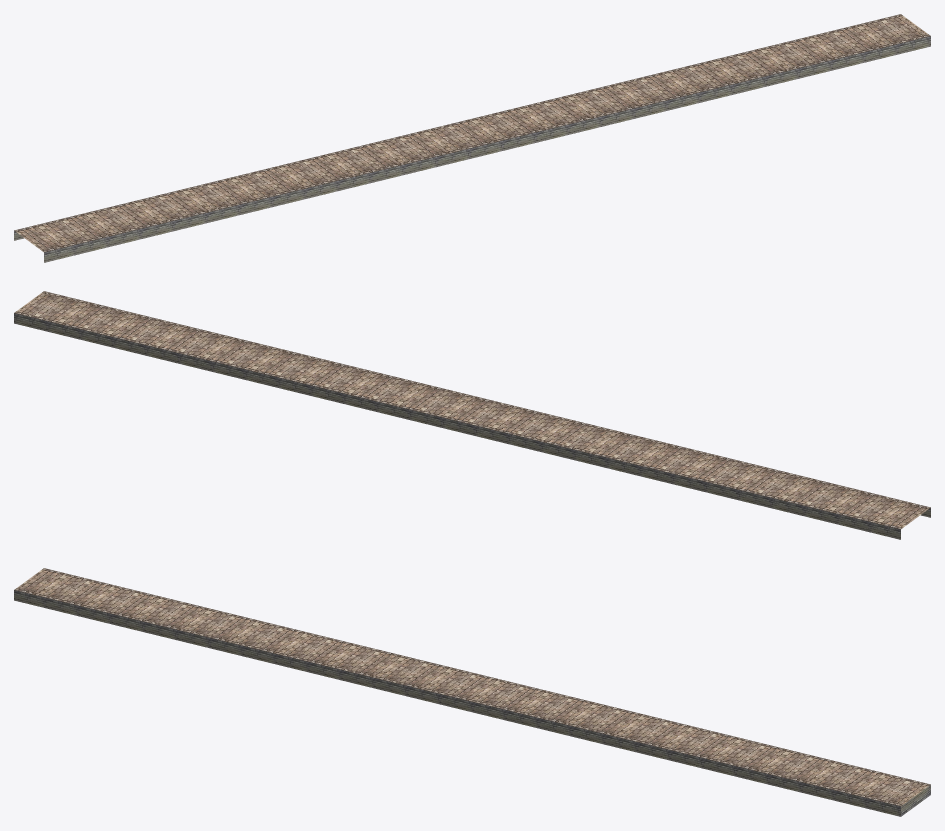
File: guodao.FBX
The picture shows the model from 3 angles, top to bottom: view 1: azimuth 30°, elevation 25°; view 2: azimuth 150°, elevation 25°; view 3: azimuth 330°, elevation 25°; orthographic projection.
Visible parts, largest first — view 1: Object01; view 2: Object01; view 3: Object01.
Part boxes in pixels (x1,y1,x2,y2): Object01: (14, 14, 930, 262); Object01: (14, 291, 930, 539); Object01: (14, 568, 930, 816).
Size of the model in its own units: 2077 by 23.36 by 122.
